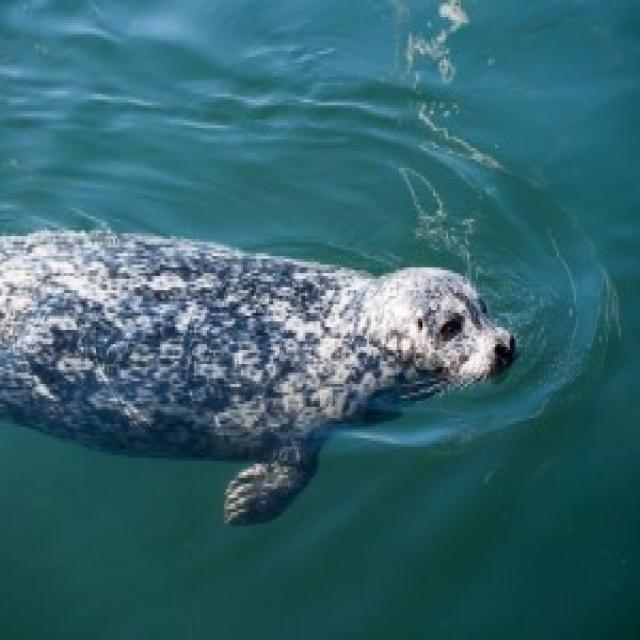Seal: (0, 213, 525, 537)
